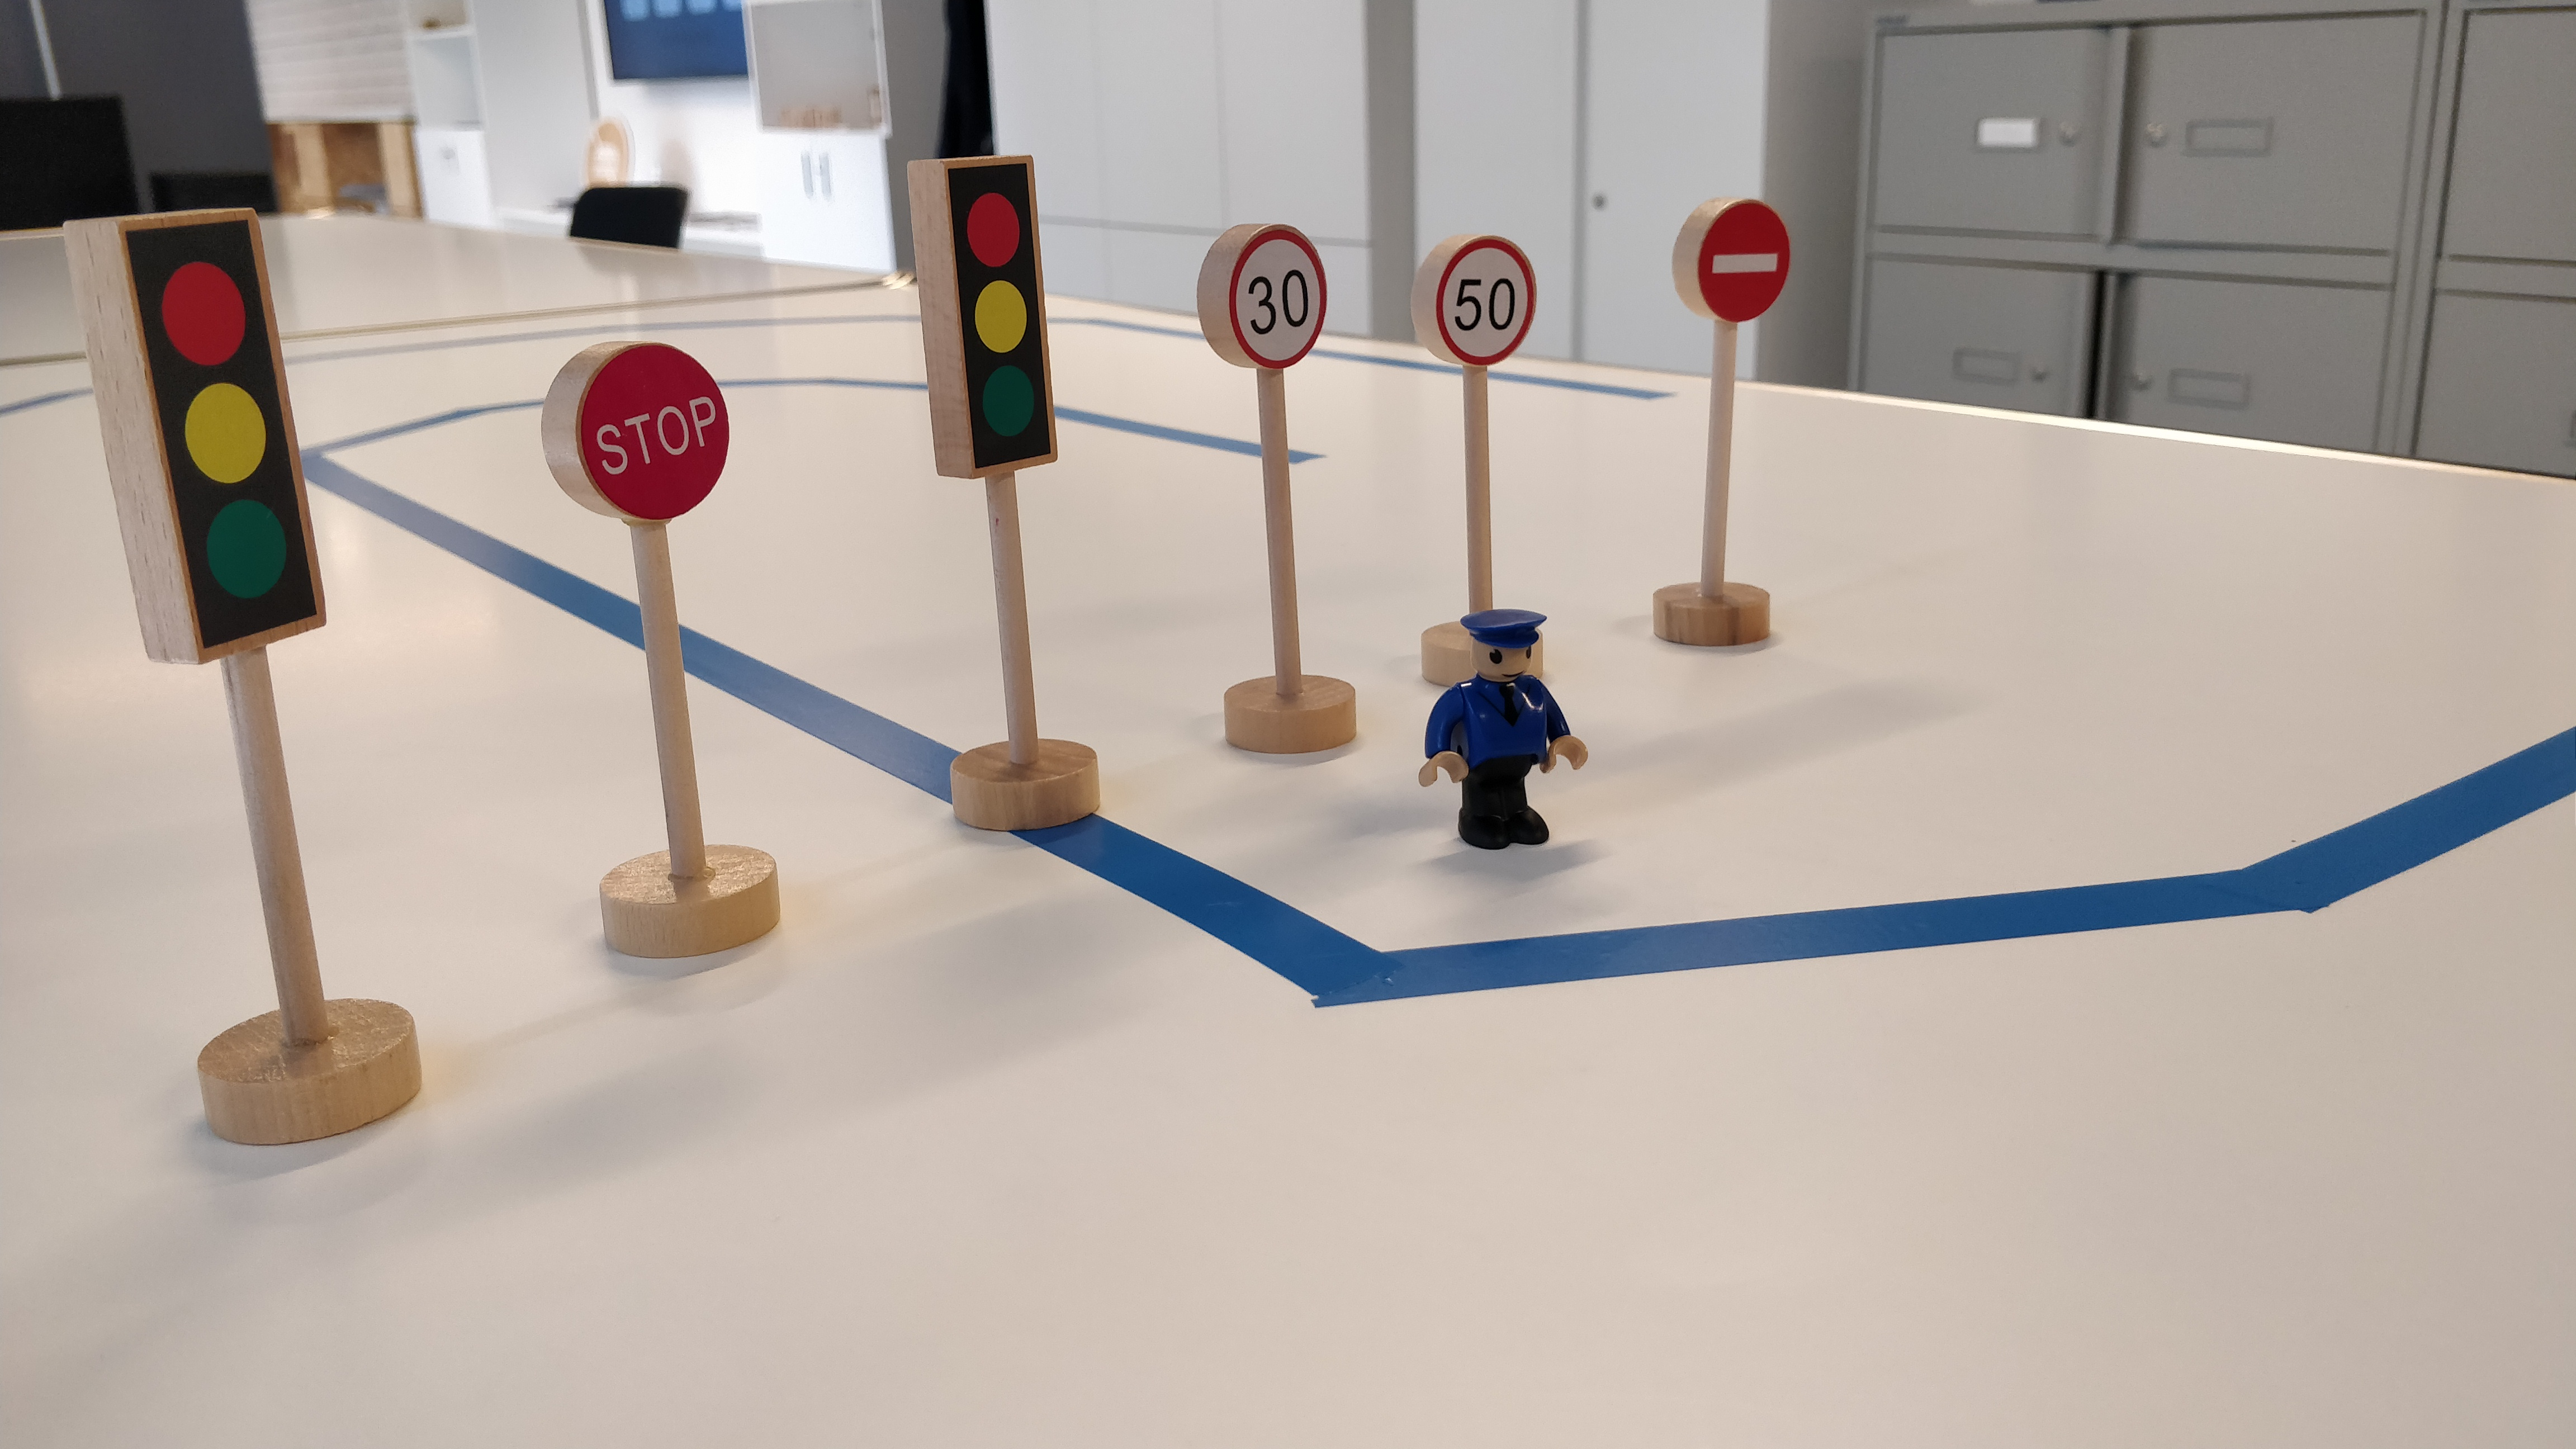Person: (1412, 600, 1593, 856)
Prohibition Sign: (1669, 197, 1791, 330)
Speed Limit 30: (1196, 221, 1328, 371)
Speed Limit 50: (1404, 231, 1539, 368)
Stop Sign: (540, 330, 738, 532)
Traffic Light: (57, 208, 333, 671), (905, 151, 1059, 483)
